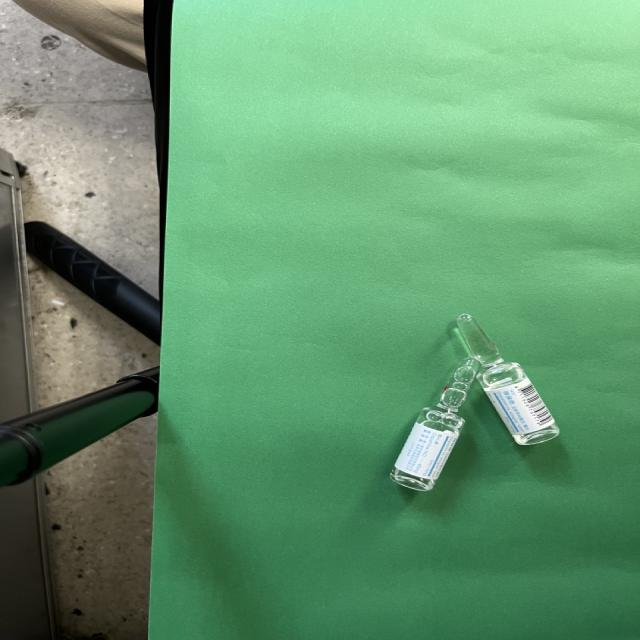Ampoules: (456, 314, 559, 444), (390, 348, 479, 491)
